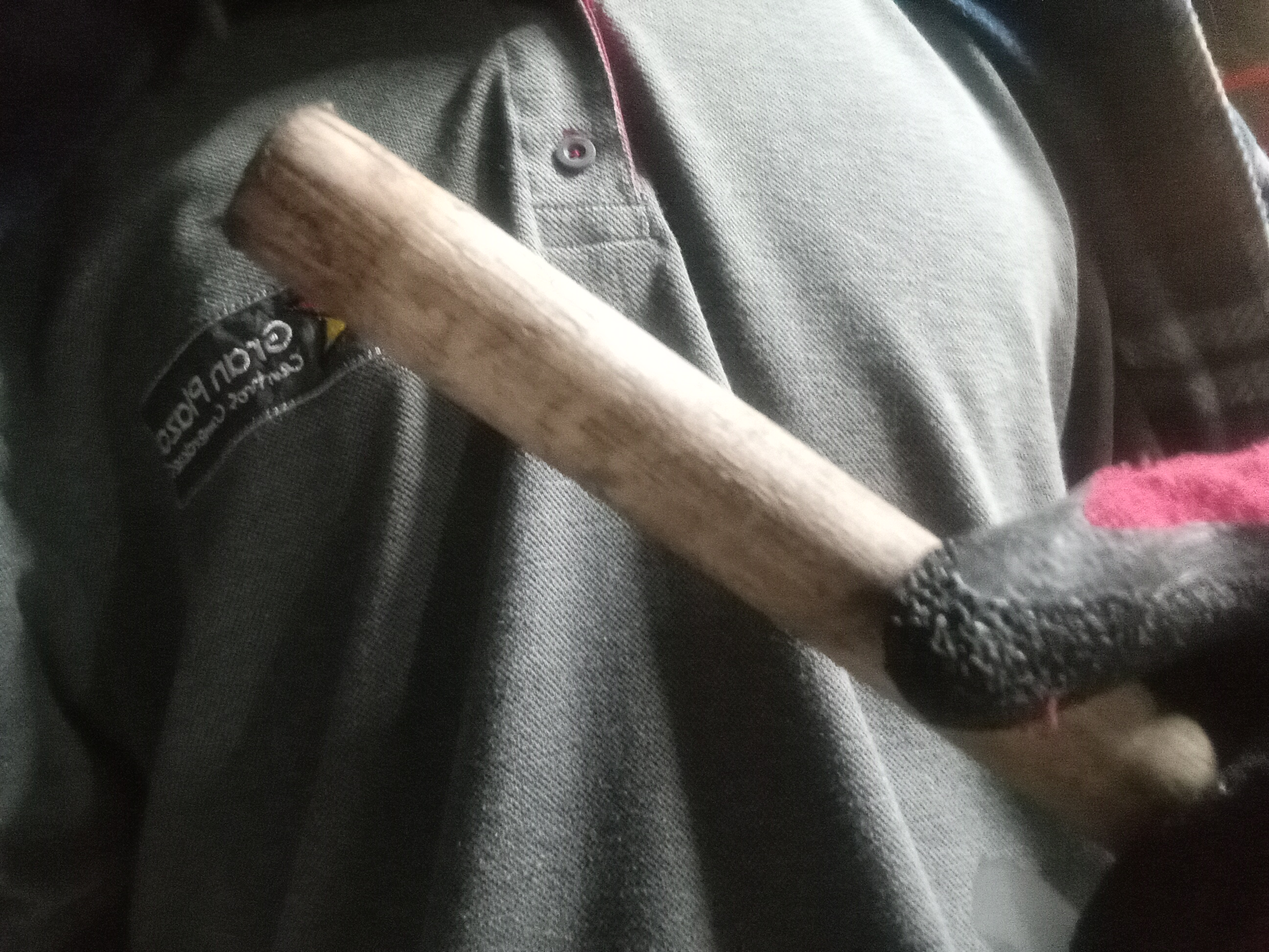Ordinario: (220, 102, 1227, 850)
